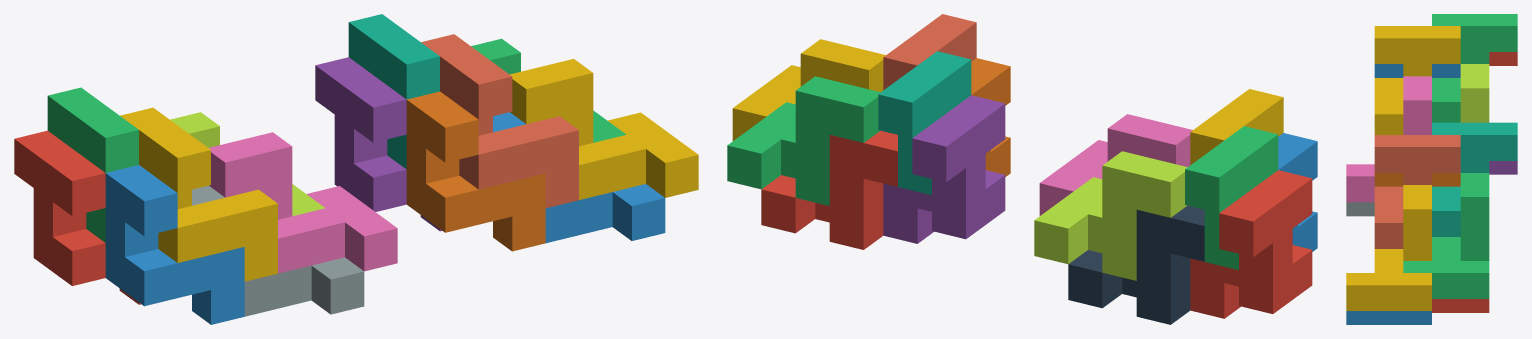
File: tiling.obj
3 renders of one model, left to right at view 1: azimuth 30°, elevation 25°; view 2: azimuth 150°, elevation 25°; view 3: azimuth 270°, elevation 25°, orthographic. The views are drawn at different scales.
Parts seen in each view (by area): view 1: copy_1_domain_6, copy_1_domain_2, copy_2_domain_4, copy_2_domain_8, copy_1_domain_8, copy_1_domain_4, copy_1_domain_1, copy_1_domain_5, copy_1_domain_3, copy_1_domain_7, copy_2_domain_2, copy_2_domain_6 (+2 smaller); view 2: copy_1_domain_1, copy_1_domain_5, copy_2_domain_7, copy_2_domain_3, copy_2_domain_1, copy_2_domain_5, copy_1_domain_3, copy_1_domain_7, copy_2_domain_8, copy_2_domain_4, copy_1_domain_4, copy_1_domain_8 (+2 smaller); view 3: copy_2_domain_8, copy_2_domain_7, copy_1_domain_8, copy_1_domain_4, copy_1_domain_7, copy_1_domain_3, copy_2_domain_4, copy_2_domain_3, copy_2_domain_6, copy_1_domain_2, copy_1_domain_6, copy_2_domain_5 (+3 smaller).
Part boxes in pixels (x1=…): copy_1_domain_6: x1=406, y1=91, x2=545, y2=251; copy_1_domain_2: x1=105, y1=165, x2=244, y2=324; copy_2_domain_4: x1=209, y1=132, x2=397, y2=273; copy_2_domain_8: x1=509, y1=59, x2=698, y2=199; copy_1_domain_8: x1=421, y1=34, x2=578, y2=208; copy_1_domain_4: x1=120, y1=107, x2=277, y2=281; copy_1_domain_1: x1=14, y1=130, x2=140, y2=304; copy_1_domain_5: x1=315, y1=57, x2=442, y2=231; copy_1_domain_3: x1=47, y1=87, x2=138, y2=242; copy_1_domain_7: x1=348, y1=14, x2=439, y2=169; copy_2_domain_2: x1=192, y1=185, x2=364, y2=316; copy_2_domain_6: x1=493, y1=112, x2=665, y2=243; copy_1_domain_1: x1=1190, y1=170, x2=1312, y2=318; copy_1_domain_5: x1=883, y1=95, x2=1005, y2=243; copy_2_domain_7: x1=727, y1=76, x2=880, y2=205; copy_2_domain_3: x1=1034, y1=151, x2=1187, y2=280; copy_2_domain_1: x1=1068, y1=205, x2=1204, y2=324; copy_2_domain_5: x1=761, y1=130, x2=897, y2=249; copy_1_domain_3: x1=1185, y1=126, x2=1278, y2=269; copy_1_domain_7: x1=878, y1=51, x2=971, y2=195; copy_2_domain_8: x1=732, y1=39, x2=885, y2=140; copy_2_domain_4: x1=1039, y1=114, x2=1192, y2=215; copy_1_domain_4: x1=1190, y1=89, x2=1283, y2=164; copy_1_domain_8: x1=883, y1=14, x2=976, y2=90; copy_2_domain_8: x1=1346, y1=185, x2=1431, y2=310; copy_2_domain_7: x1=1403, y1=173, x2=1489, y2=298; copy_1_domain_8: x1=1374, y1=135, x2=1460, y2=248; copy_1_domain_4: x1=1374, y1=26, x2=1460, y2=134; copy_1_domain_7: x1=1432, y1=122, x2=1517, y2=236; copy_1_domain_3: x1=1432, y1=14, x2=1517, y2=122; copy_2_domain_4: x1=1346, y1=76, x2=1431, y2=202; copy_2_domain_3: x1=1460, y1=64, x2=1489, y2=122; copy_2_domain_6: x1=1346, y1=311, x2=1431, y2=324; copy_1_domain_2: x1=1374, y1=64, x2=1460, y2=77; copy_1_domain_6: x1=1374, y1=173, x2=1460, y2=186; copy_2_domain_5: x1=1432, y1=299, x2=1489, y2=312.
Size of the model in its own units: 17 by 5 by 6.
